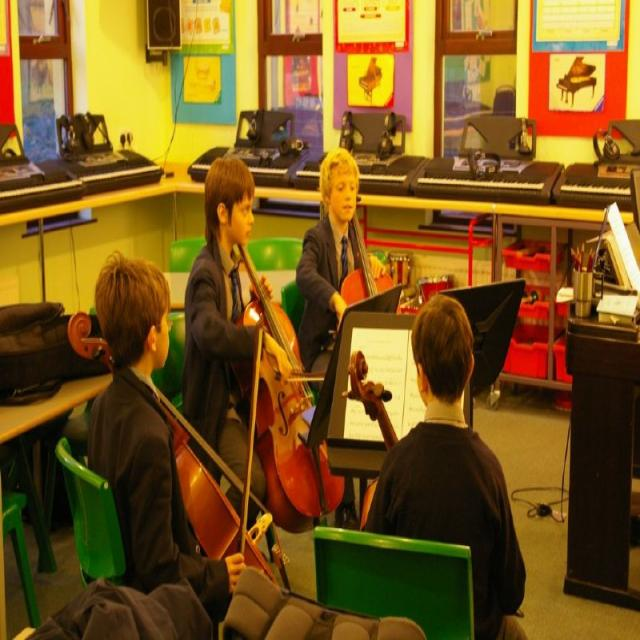cello: (67, 314, 290, 594), (235, 230, 346, 533), (333, 196, 406, 314), (342, 348, 401, 448)
